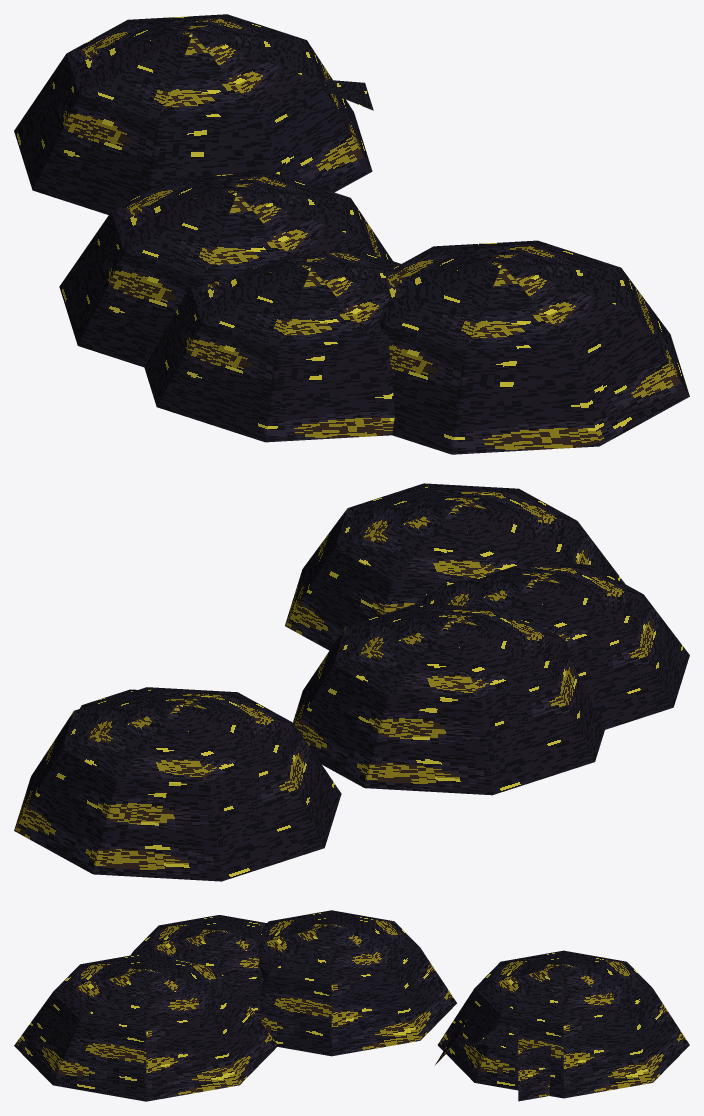
The model's file is PAN-03_Burbujon_corro.gltf.
The picture shows the model from 3 angles, top to bottom: view 1: azimuth 30°, elevation 25°; view 2: azimuth 150°, elevation 25°; view 3: azimuth 270°, elevation 25°; orthographic projection. The views are drawn at different scales.
Visible parts, largest first — view 1: PAN-03_Burbujon_corro; view 2: PAN-03_Burbujon_corro; view 3: PAN-03_Burbujon_corro.
Boxes of the visible parts, x1=… form: PAN-03_Burbujon_corro: x1=14, y1=14, x2=689, y2=454; PAN-03_Burbujon_corro: x1=14, y1=483, x2=689, y2=881; PAN-03_Burbujon_corro: x1=14, y1=910, x2=689, y2=1101.
Bounding box in the file's own units: 1.14 × 0.2806 × 2.14.
Materials: 1 (1 with a texture image).
